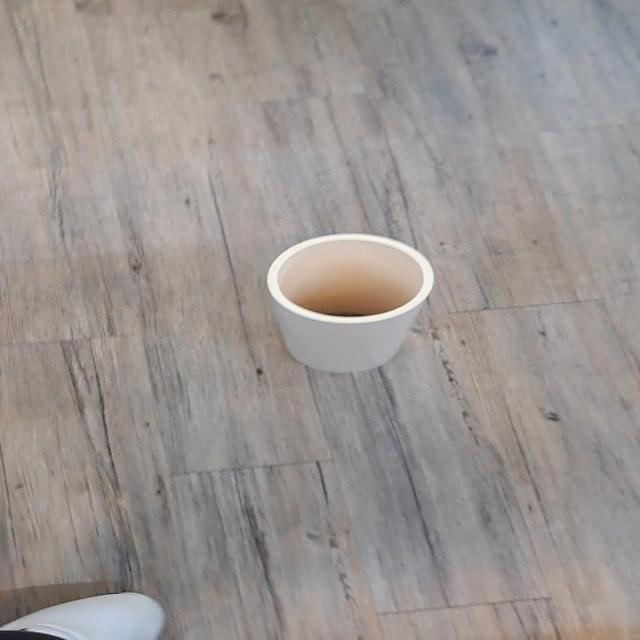CORAL: (244, 222, 468, 392)
